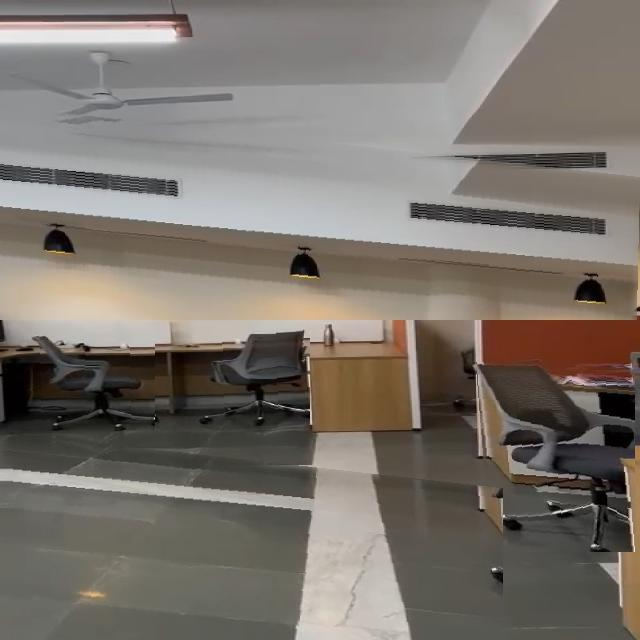floor: (6, 433, 503, 640)
furniture: (475, 355, 635, 552), (16, 323, 155, 430), (208, 323, 310, 432)
wall: (0, 106, 640, 320)
